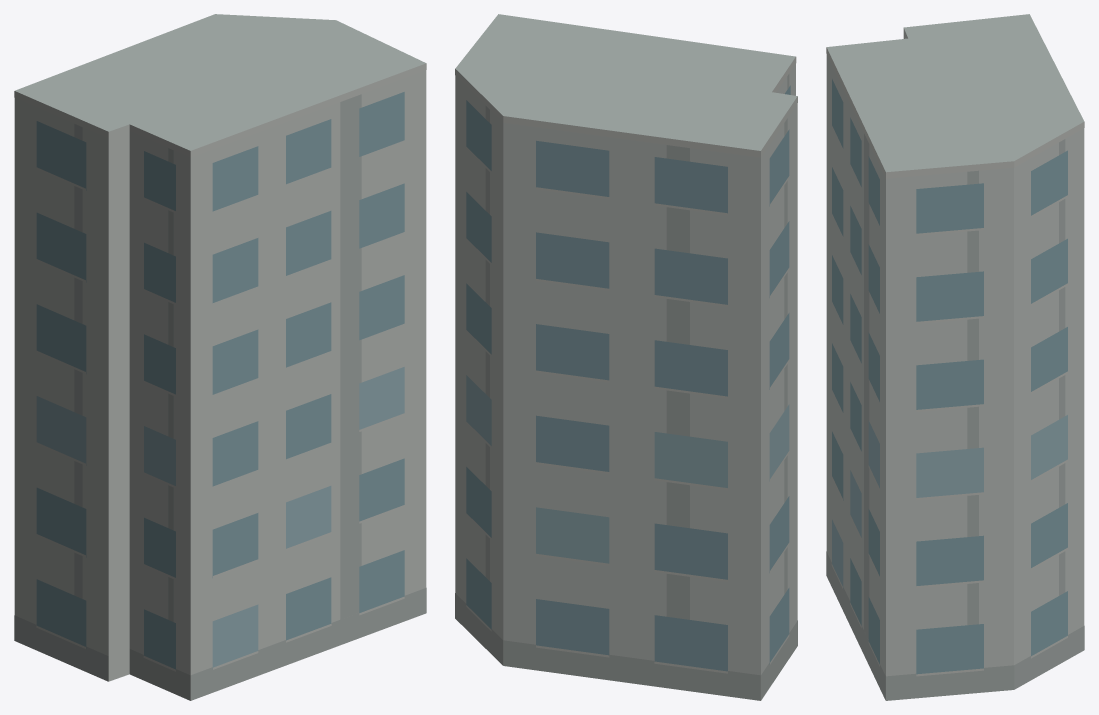
The model's file is survey-upis-32796418.glb.
The picture shows the model from 3 angles, left to right: view 1: azimuth 30°, elevation 25°; view 2: azimuth 150°, elevation 25°; view 3: azimuth 270°, elevation 25°; orthographic projection. The views are drawn at different scales.
Parts seen in each view (by area): view 1: survey-upis-32796418.tmp; view 2: survey-upis-32796418.tmp; view 3: survey-upis-32796418.tmp.
Part boxes in pixels (bbox=[...]): survey-upis-32796418.tmp: bbox=[14, 14, 426, 700]; survey-upis-32796418.tmp: bbox=[455, 14, 797, 700]; survey-upis-32796418.tmp: bbox=[826, 14, 1084, 700].
Size of the model in its own units: 12.65 by 19.7 by 8.72.
